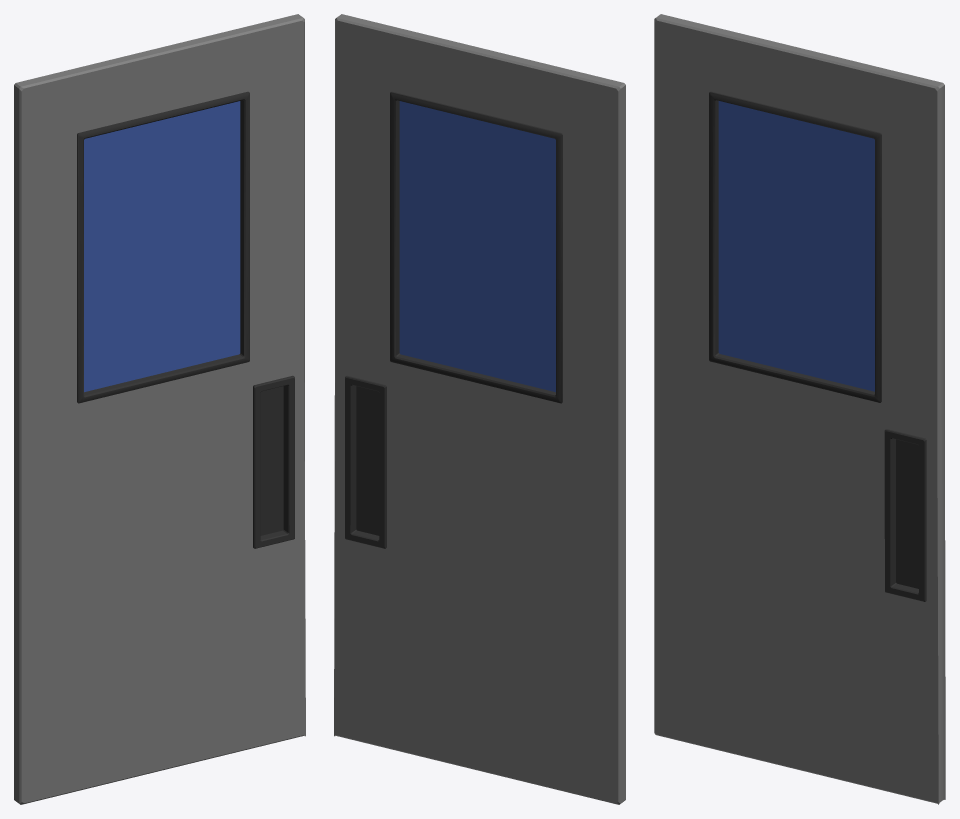
Rendered from SM_door_classroom_01.fbx.
3 views of the same model, side by side, from view 1: azimuth 30°, elevation 25°; view 2: azimuth 150°, elevation 25°; view 3: azimuth 330°, elevation 25° (orthographic).
Visible parts, largest first — view 1: door_class_01; view 2: door_class_01; view 3: door_class_01.
Part boxes in pixels (x1,y1,x2,y2): door_class_01: (14, 14, 305, 804); door_class_01: (334, 14, 625, 804); door_class_01: (654, 14, 945, 804).
Size of the model in its own units: 35.28 by 84.68 by 2.15.
